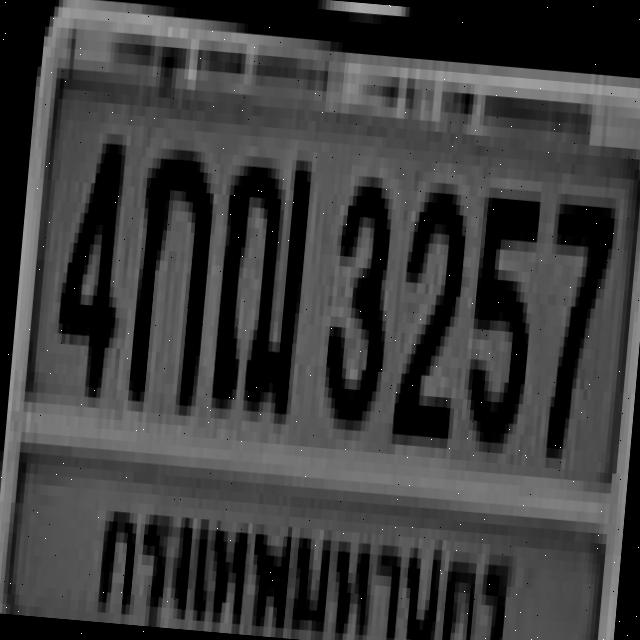10GorGai: (124, 137, 214, 406)
2: (389, 175, 466, 433)
21ChorChoe: (208, 144, 309, 404)
3: (318, 164, 395, 422)
4: (50, 130, 126, 388)
5: (459, 186, 536, 444)
7: (535, 192, 612, 450)
Bangkok: (87, 476, 530, 640)
